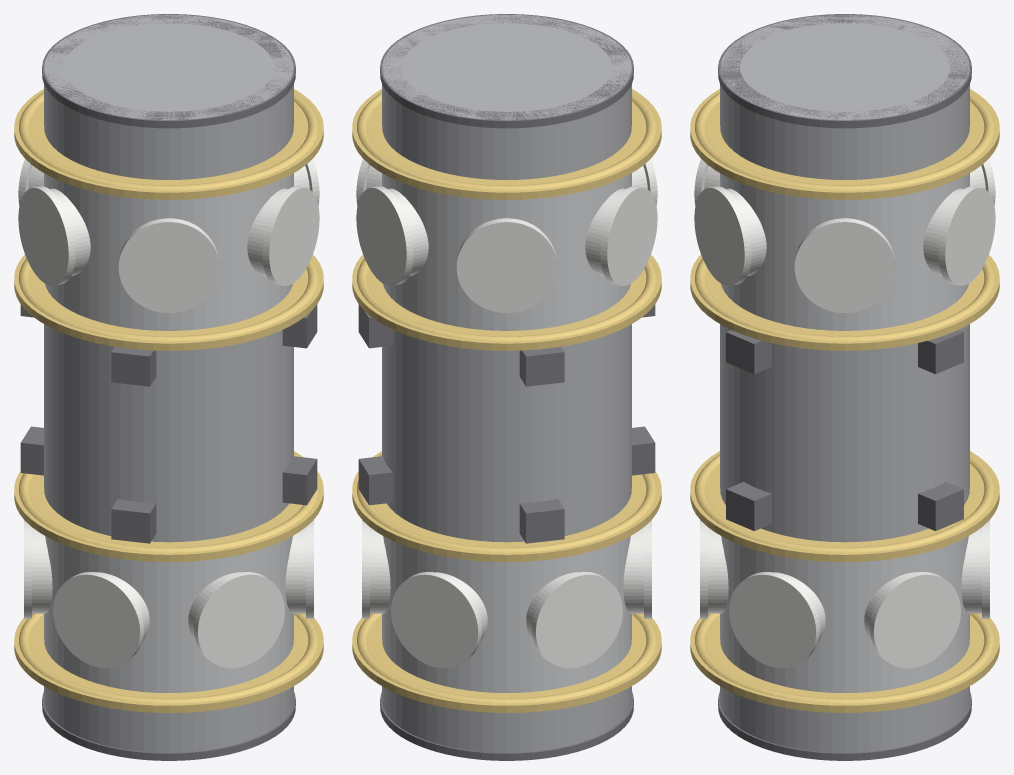
Rendered from station12_counter_ring_hub.glb.
The picture shows the model from 3 angles, left to right: view 1: azimuth 30°, elevation 25°; view 2: azimuth 150°, elevation 25°; view 3: azimuth 270°, elevation 25°; orthographic projection.
Parts seen in each view (by area): view 1: stator_centre, stator_ends, bearings_sliprings, spoke_ports_a, spoke_ports_b, rotor_a, rotor_b, end_rings, spin_motors; view 2: stator_centre, stator_ends, bearings_sliprings, spoke_ports_a, spoke_ports_b, rotor_a, rotor_b, end_rings, spin_motors; view 3: stator_ends, stator_centre, bearings_sliprings, spoke_ports_a, spoke_ports_b, rotor_a, rotor_b, end_rings, spin_motors.
Part boxes in pixels (x1,y1,x2,y2): stator_centre: (44,324,293,542); stator_ends: (44,15,293,752); bearings_sliprings: (14,89,323,712); spoke_ports_a: (18,159,319,312); spoke_ports_b: (24,520,313,668); rotor_a: (44,173,293,330); rotor_b: (44,536,293,692); end_rings: (42,14,295,760); spin_motors: (20,304,317,543); stator_centre: (382,324,631,542); stator_ends: (382,15,631,752); bearings_sliprings: (352,89,661,712); spoke_ports_a: (356,159,657,312); spoke_ports_b: (362,520,651,668); rotor_a: (382,173,631,330); rotor_b: (382,536,631,692); end_rings: (380,14,633,760); spin_motors: (358,304,655,543); stator_ends: (720,15,969,752); stator_centre: (720,324,969,542); bearings_sliprings: (690,89,999,712); spoke_ports_a: (694,159,995,312); spoke_ports_b: (700,520,989,668); rotor_a: (720,173,969,330); rotor_b: (720,536,969,692); end_rings: (718,14,971,760); spin_motors: (726,330,963,531).
Bounding box in the file's own units: 4.65 × 10.6 × 4.65.
